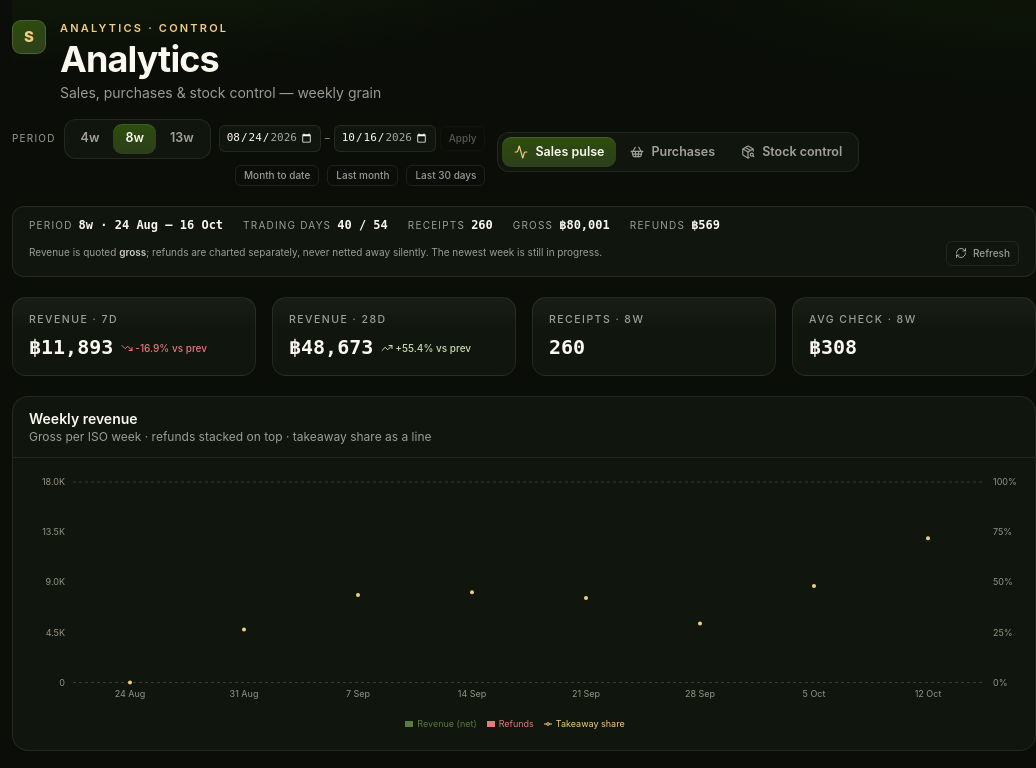
Test: SalesPulseTab — rendered figures match prod SQL › switches to 4 weeks and shows SQL-matching receipts and avg check
Expected: the text "Trading days" is shown, [243,218,331,232]
Click the button titled "Last 4 ISO weeks". click: (90, 138)
box: [69,124,111,154]
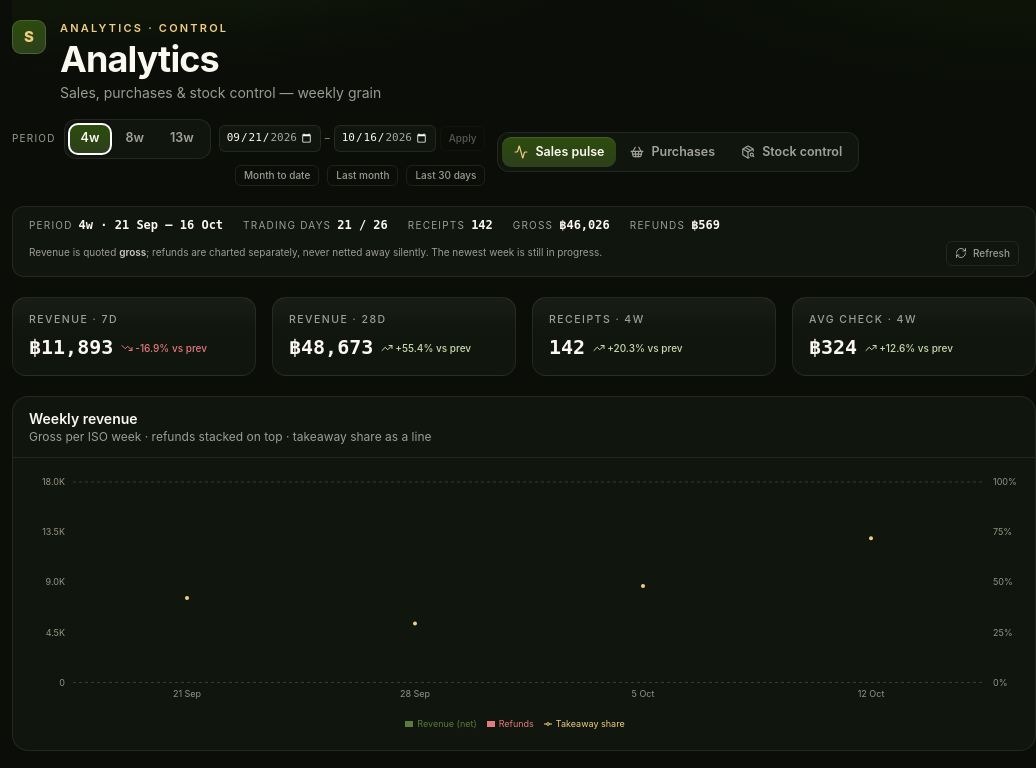
Result: the text "Receipts · 4w" is shown at [549,312,645,326]
Result: the text "142" next to "20.3" is shown at [549,335,585,359]
Result: the text "฿324" is shown at [809,333,857,361]
